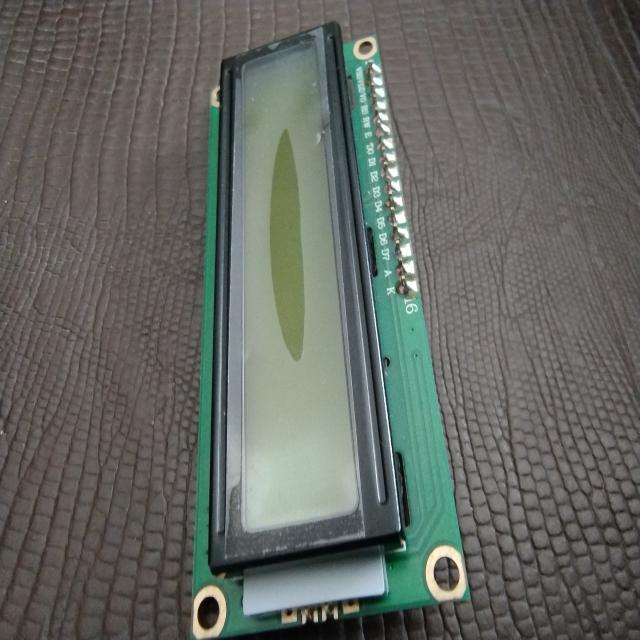lcd: (190, 20, 470, 636)
